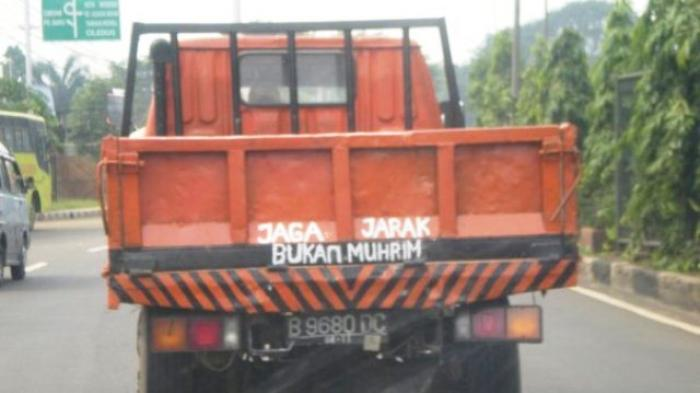plate: (287, 313, 386, 346)
